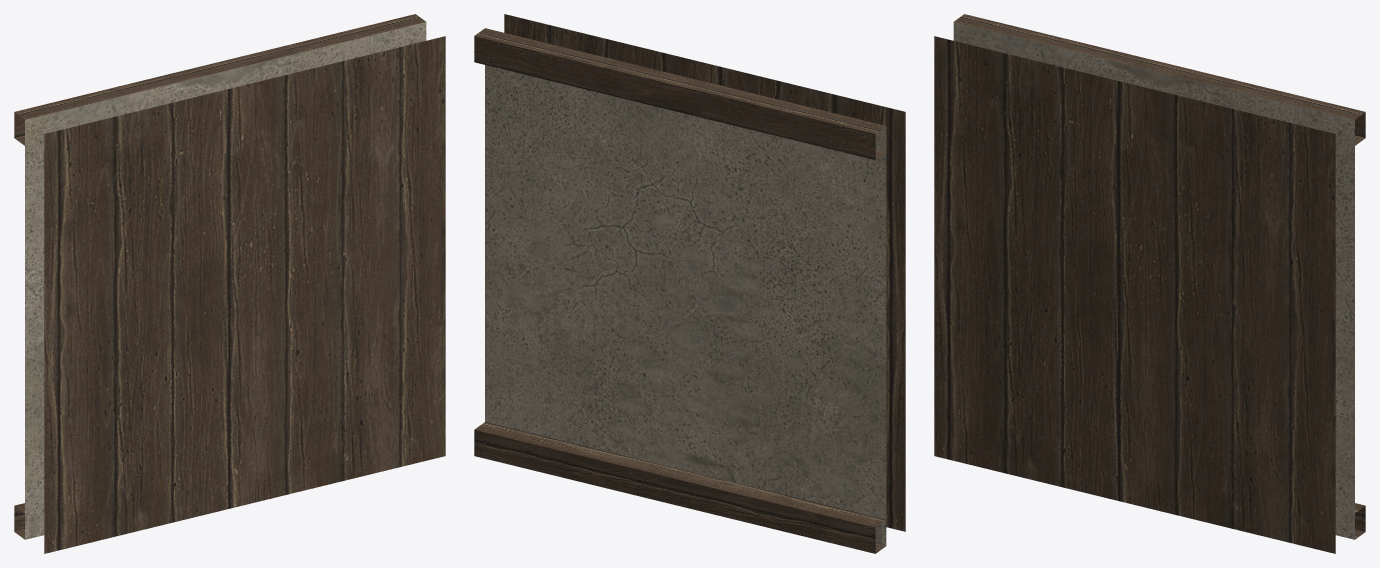
Rendered from ARC1010254.fbx.
The picture shows the model from 3 angles, left to right: view 1: azimuth 30°, elevation 25°; view 2: azimuth 150°, elevation 25°; view 3: azimuth 330°, elevation 25°; orthographic projection.
Parts seen in each view (by area): view 1: smARC1010254; view 2: smARC1010254; view 3: smARC1010254.
Boxes of the visible parts, x1,y1,x2,y2 form: smARC1010254: (14, 14, 445, 553); smARC1010254: (474, 14, 905, 553); smARC1010254: (934, 14, 1365, 553).
Size of the model in its own units: 268 by 268 by 34.9.
Materials: 1 (1 with a texture image).
